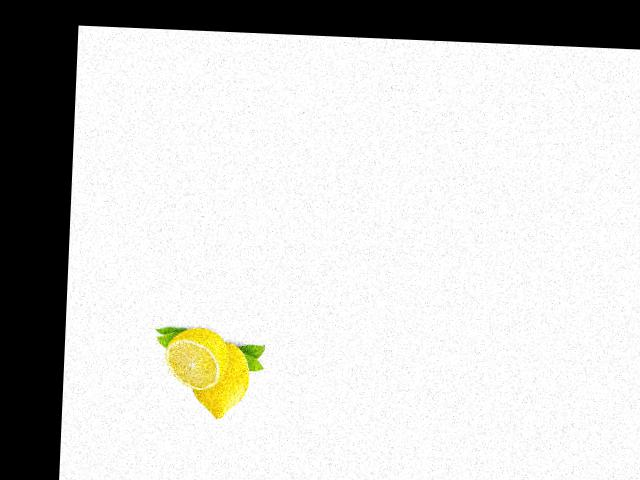lemon: (188, 333, 258, 421)
